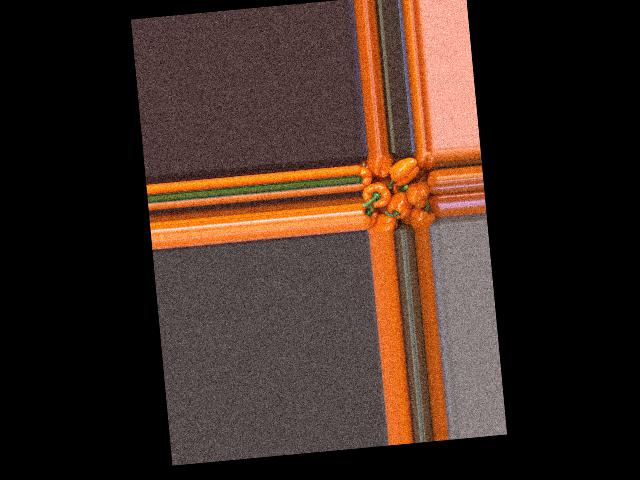bell_pepper: (421, 189, 441, 220)
